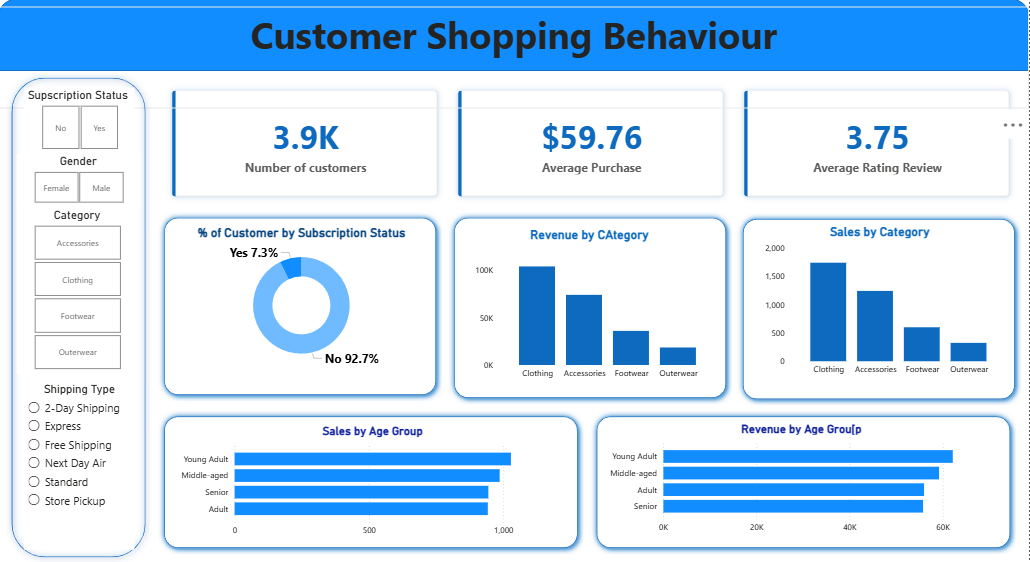

The dashboard page shown, as its layout file describes it:
{"tool":"powerbi","page":{"name":"Page 1","canvas":[1500,820],"ordinal":0},"visuals":[{"type":"cardVisual","fields":{"Data":["customer_shopping_behaviour.Number of customers","customer_shopping_behaviour.Average Purchase","customer_shopping_behaviour.Average Rating Review"]},"box":[225.5,104.6,1274.9,211],"z":0},{"type":"shape","box":[0,0,1500.3,104.6],"z":1000},{"type":"textbox","box":[0,11.8,1500.3,148.5],"z":2000},{"type":"shape","box":[232.9,308.8,413.5,275.8],"z":3000},{"type":"donutChart","title":"% of Customer by Subscription Status","fields":{"Category":["customer_shopping_behaviour.subscription_status"],"Y":["Sum(customer_shopping_behaviour.customer_id)"]},"box":[248.4,329.4,384.8,212.6],"z":4000},{"type":"shape","box":[1075,310.5,413.5,280.2],"z":5000},{"type":"shape","box":[654.8,308.8,413.5,280.2],"z":6000},{"type":"clusteredColumnChart","title":"Revenue by CAtegory","fields":{"Y":["Sum(customer_shopping_behaviour.purchase_amount)"],"Category":["customer_shopping_behaviour.category"]},"box":[670,332.5,379.1,239.6],"z":7000},{"type":"clusteredColumnChart","title":"Sales by Category","fields":{"Category":["customer_shopping_behaviour.category"],"Y":["CountNonNull(customer_shopping_behaviour.customer_id)"]},"box":[1091.9,327.4,379.7,239.6],"z":8000},{"type":"shape","box":[11.8,104.6,212.6,715.6],"z":9000},{"type":"slicer","title":"Category","fields":{"Values":["customer_shopping_behaviour.category"]},"box":[27,303.8,175.5,241.3],"z":10000},{"type":"listSlicer","title":"Shipping Type","fields":{"Values":["customer_shopping_behaviour.shipping_type"]},"box":[38.8,556.9,160.3,244.7],"z":11000},{"type":"shape","box":[862.4,597.4,619.4,209.3],"z":12000},{"type":"clusteredBarChart","title":"Revenue by Age Grou[p","fields":{"Y":["Sum(customer_shopping_behaviour.purchase_amount)"],"Category":["customer_shopping_behaviour.age_group"]},"box":[879.3,614.3,577.2,172.1],"z":13000},{"type":"shape","box":[232.9,597.4,619.4,209.3],"z":14000},{"type":"clusteredBarChart","title":"Sales by Age Group","fields":{"Category":["customer_shopping_behaviour.age_group"],"Y":["CountNonNull(customer_shopping_behaviour.customer_id)"]},"box":[256.5,617.7,577.2,172.1],"z":15000},{"type":"slicer","title":"Supscription Status","fields":{"Values":["customer_shopping_behaviour.subscription_status"]},"box":[38.8,130,160.3,96.2],"z":16000},{"type":"slicer","title":"Gender","fields":{"Values":["customer_shopping_behaviour.gender"]},"box":[27,226.1,178.9,77.6],"z":17000}]}

Visuals, with their boxes in screenshot pixels (x1, y1, x2, y2), scaled from the page's 1500x820 canvas onto the 1030x562 screenshot:
cardVisual - customer_shopping_behaviour.Number of customers x customer_shopping_behaviour.Average Purchase: 155 72 1029 216
shape: 0 0 1029 72
textbox: 0 8 1029 110
shape: 160 212 444 401
"% of Customer by Subscription Status" donutChart: 171 226 435 371
shape: 738 213 1022 405
shape: 450 212 734 404
"Revenue by CAtegory" clusteredColumnChart: 460 228 720 392
"Sales by Category" clusteredColumnChart: 750 224 1010 389
shape: 8 72 154 561
"Category" slicer: 19 208 139 374
"Shipping Type" listSlicer: 27 382 137 549
shape: 592 409 1018 553
"Revenue by Age Grou[p" clusteredBarChart: 604 421 1000 539
shape: 160 409 585 553
"Sales by Age Group" clusteredBarChart: 176 423 572 541
"Supscription Status" slicer: 27 89 137 155
"Gender" slicer: 19 155 141 208
